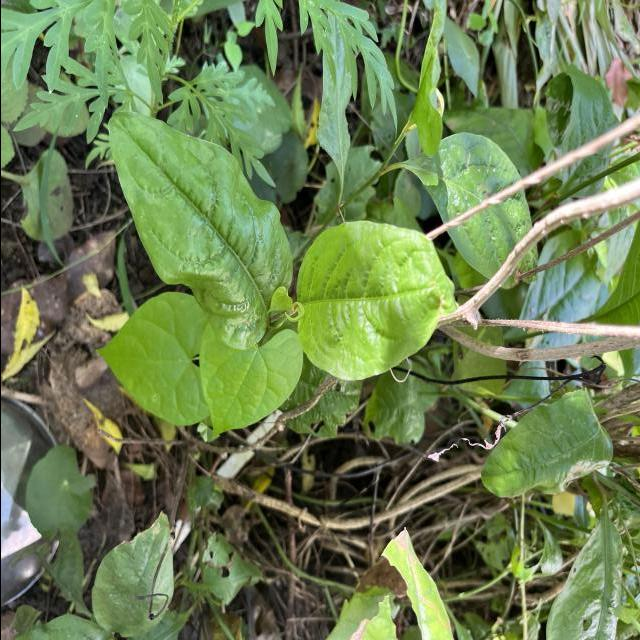Plumbago indica: (104, 110, 294, 352), (293, 220, 450, 382)
